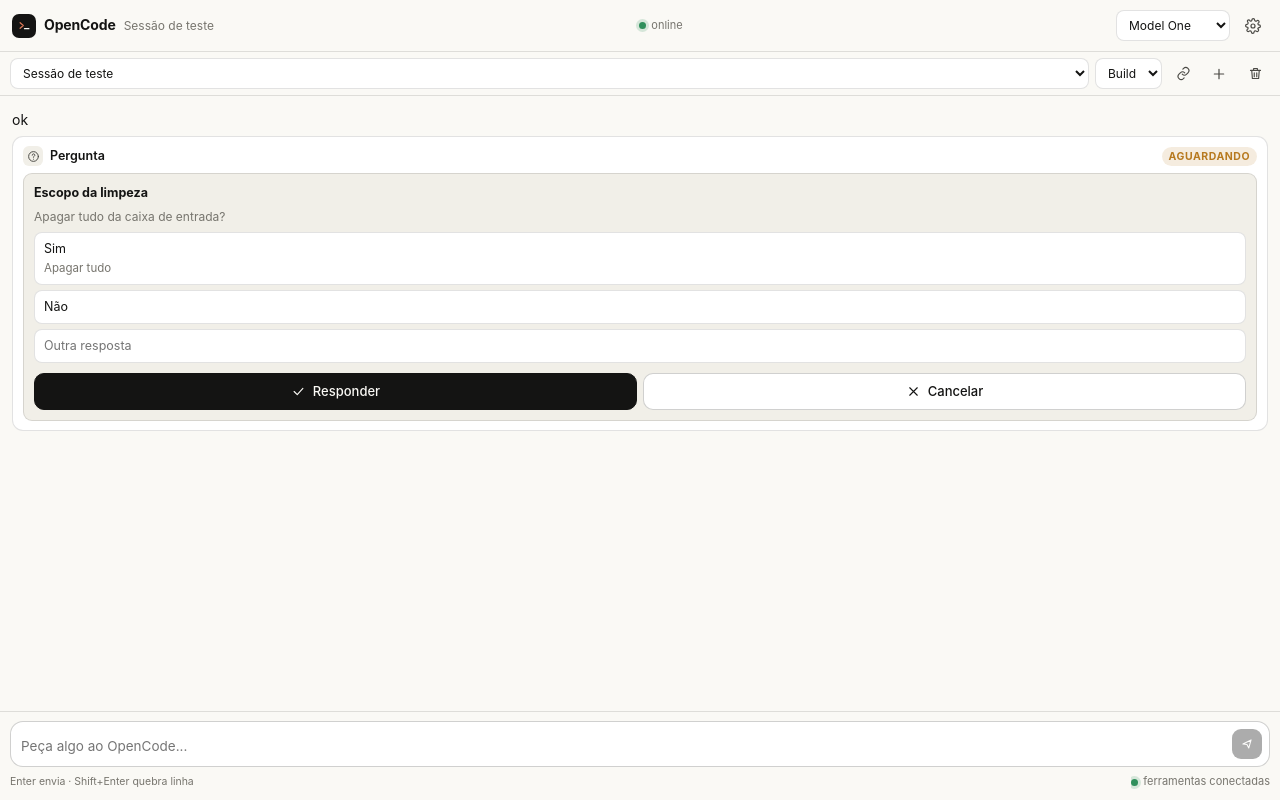
Scenario: sidepanel/App › mostra toast quando responder a pergunta falha
Click the button "Sim Apagar tudo".
click(78, 268)  # box [34,232,1246,285]
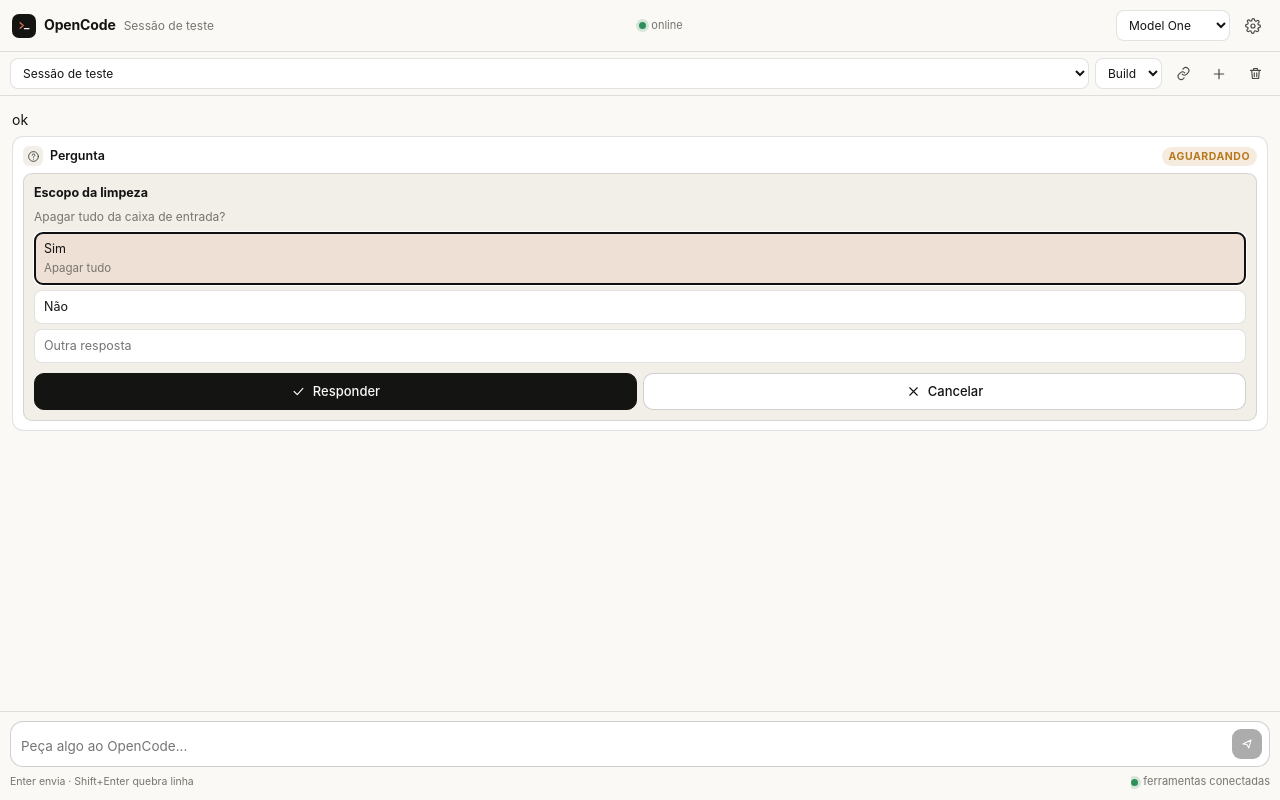
Click the button "Responder".
click(336, 391)  # box [34,373,637,410]
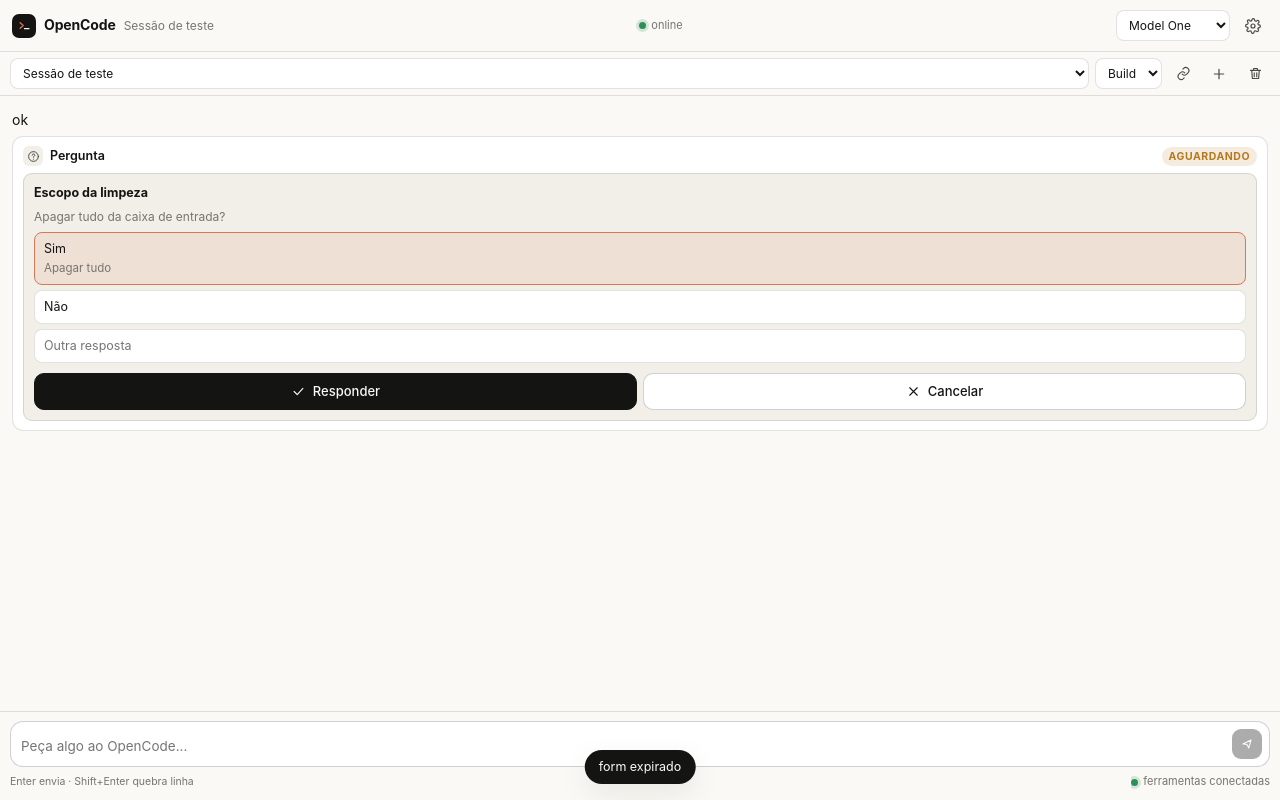
Expected: the text "form expirado" is shown, [585,750,695,784]
